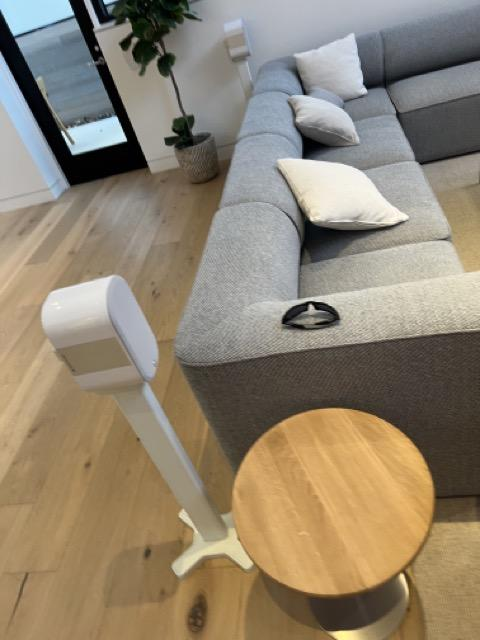Sunglasses: (282, 300, 341, 331)
